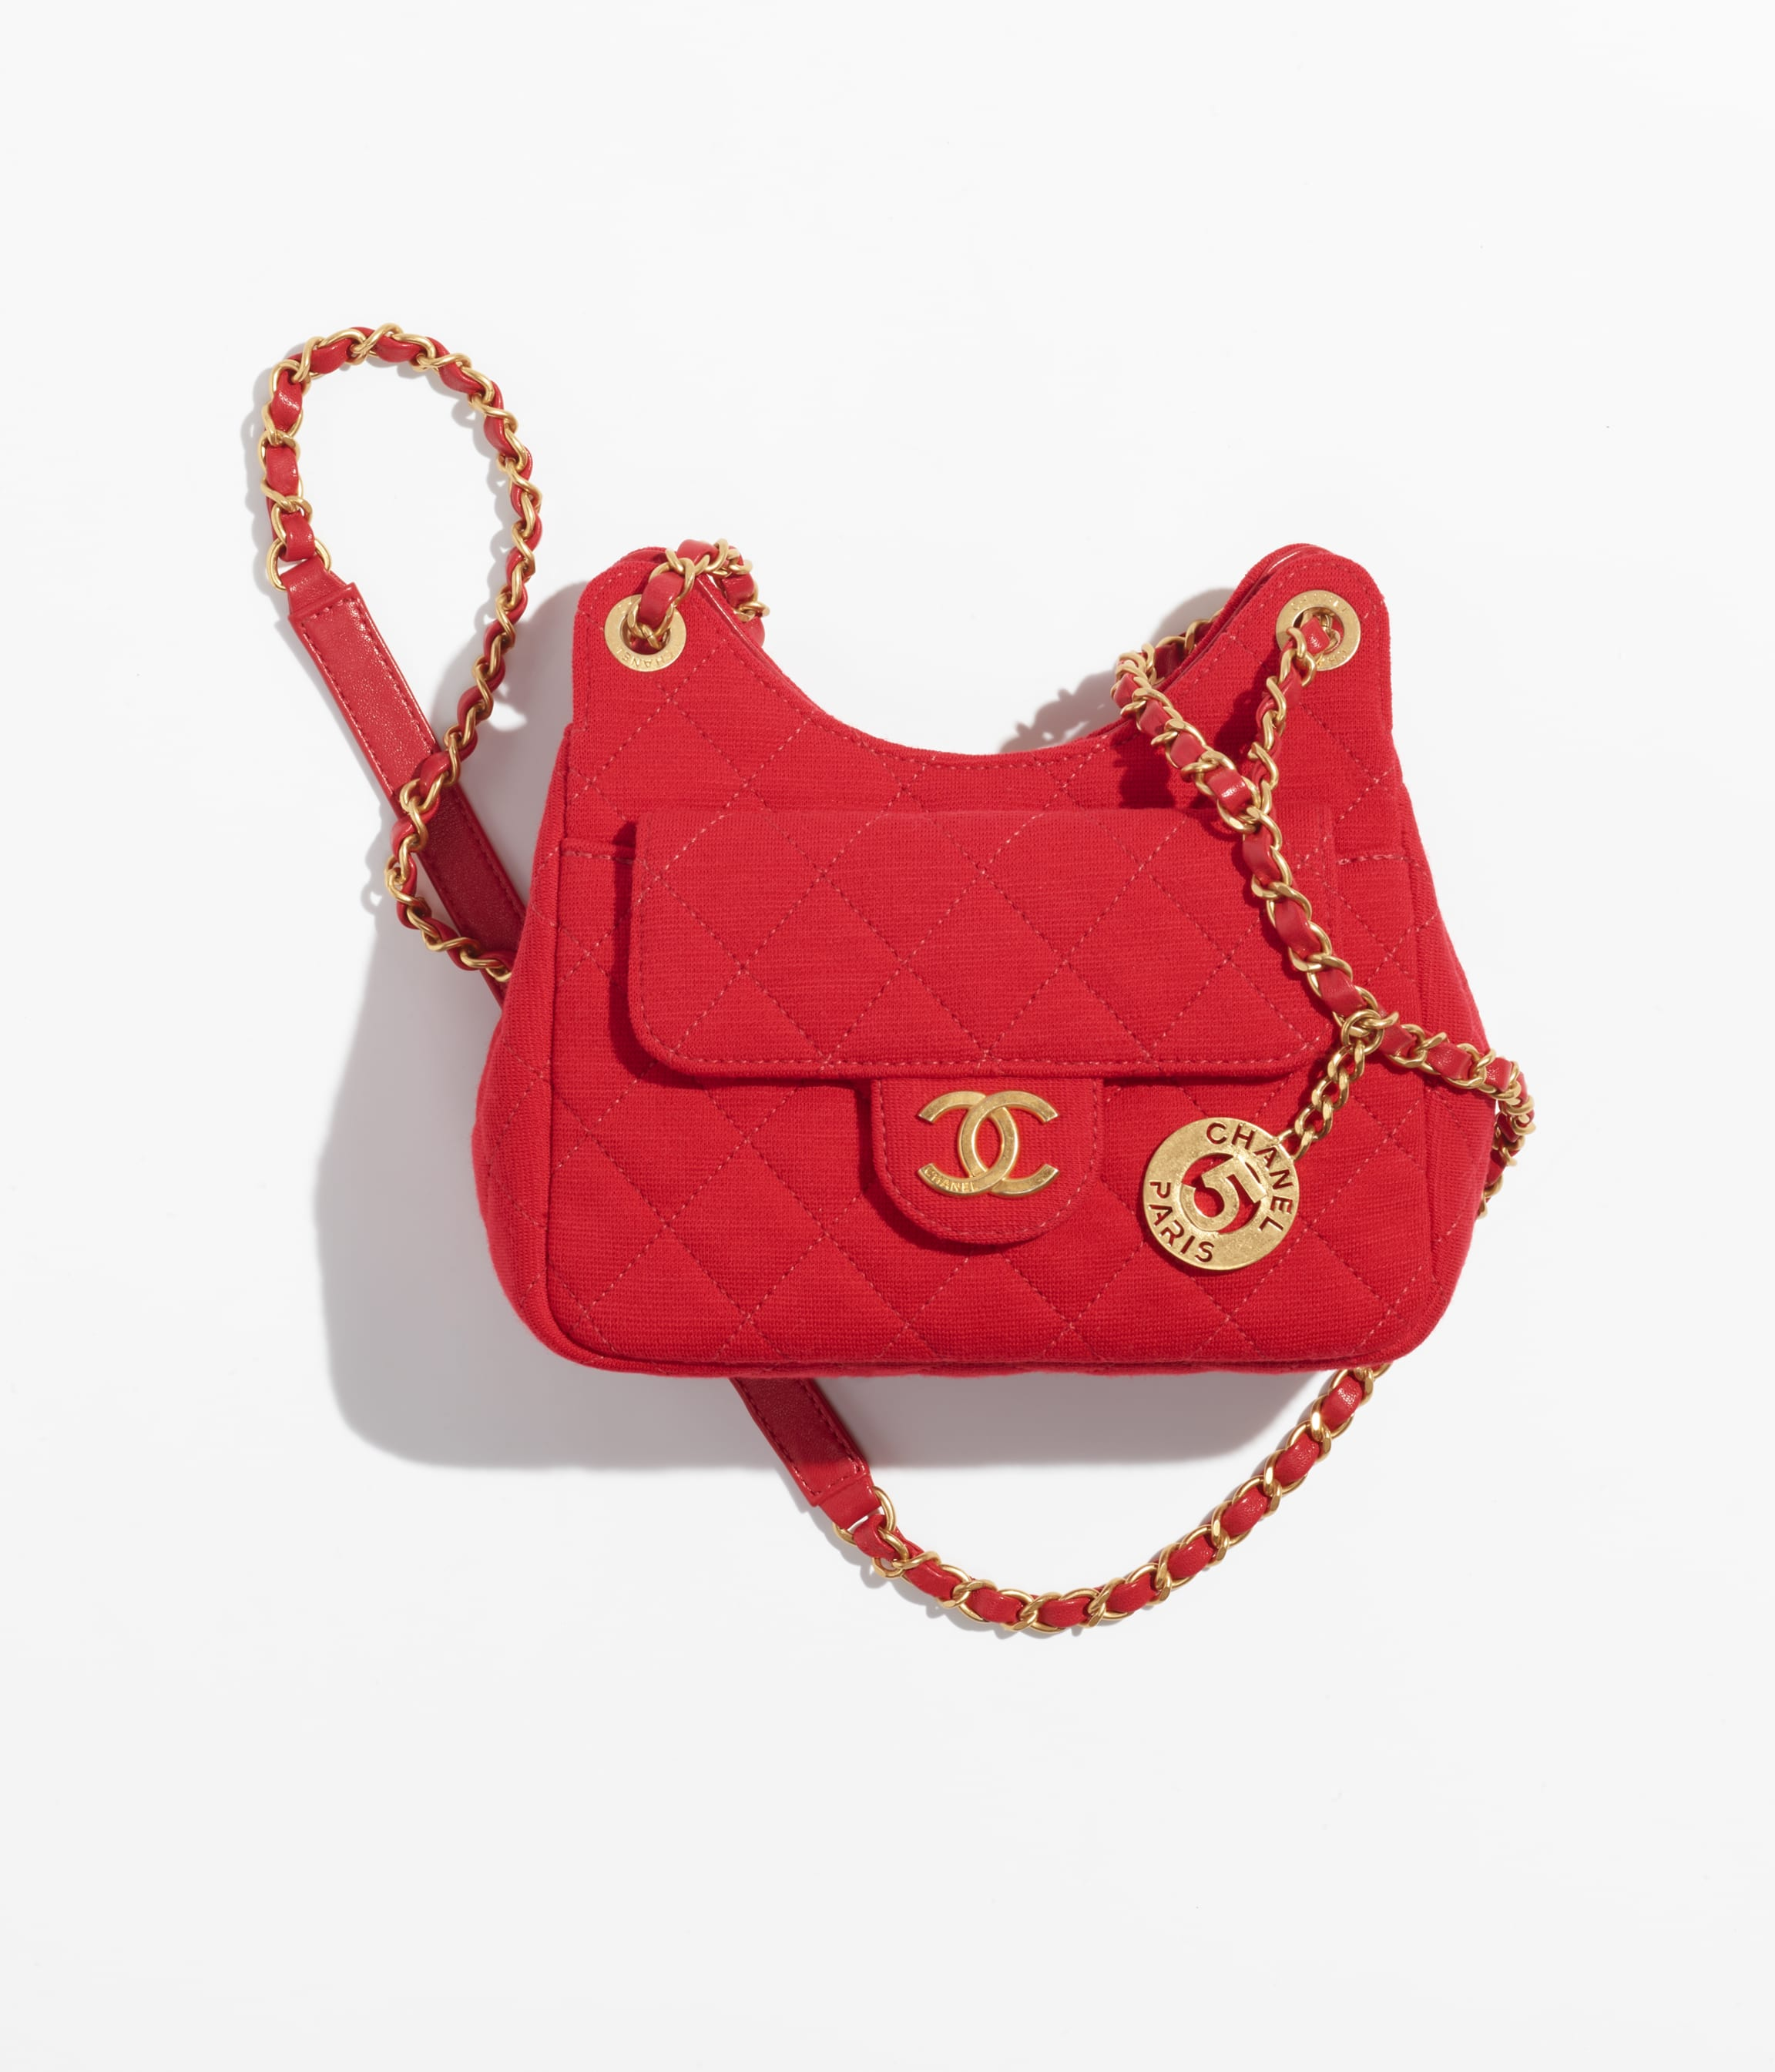channel: (405, 426, 1650, 1509), (1162, 636, 1381, 1290), (882, 1051, 1095, 1234)
